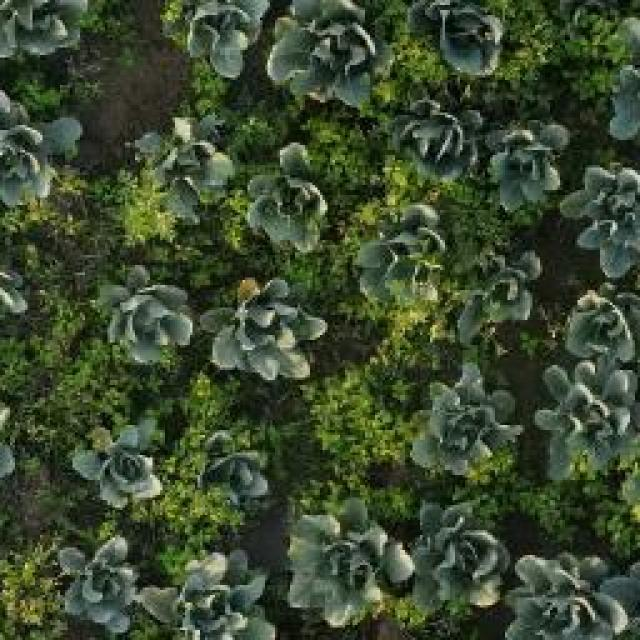cabbage: (265, 0, 390, 116), (88, 252, 200, 381), (288, 505, 410, 622), (131, 545, 278, 640), (404, 366, 525, 478), (208, 272, 320, 390), (233, 134, 334, 254), (535, 360, 640, 470), (409, 502, 512, 613), (512, 552, 640, 640), (478, 105, 570, 218), (0, 96, 88, 214), (134, 118, 232, 223), (70, 418, 170, 512), (54, 530, 144, 634), (357, 205, 443, 307), (455, 244, 545, 338), (166, 0, 264, 84), (389, 91, 478, 179), (566, 167, 640, 270), (196, 424, 271, 512), (423, 0, 506, 78), (564, 282, 636, 362)
